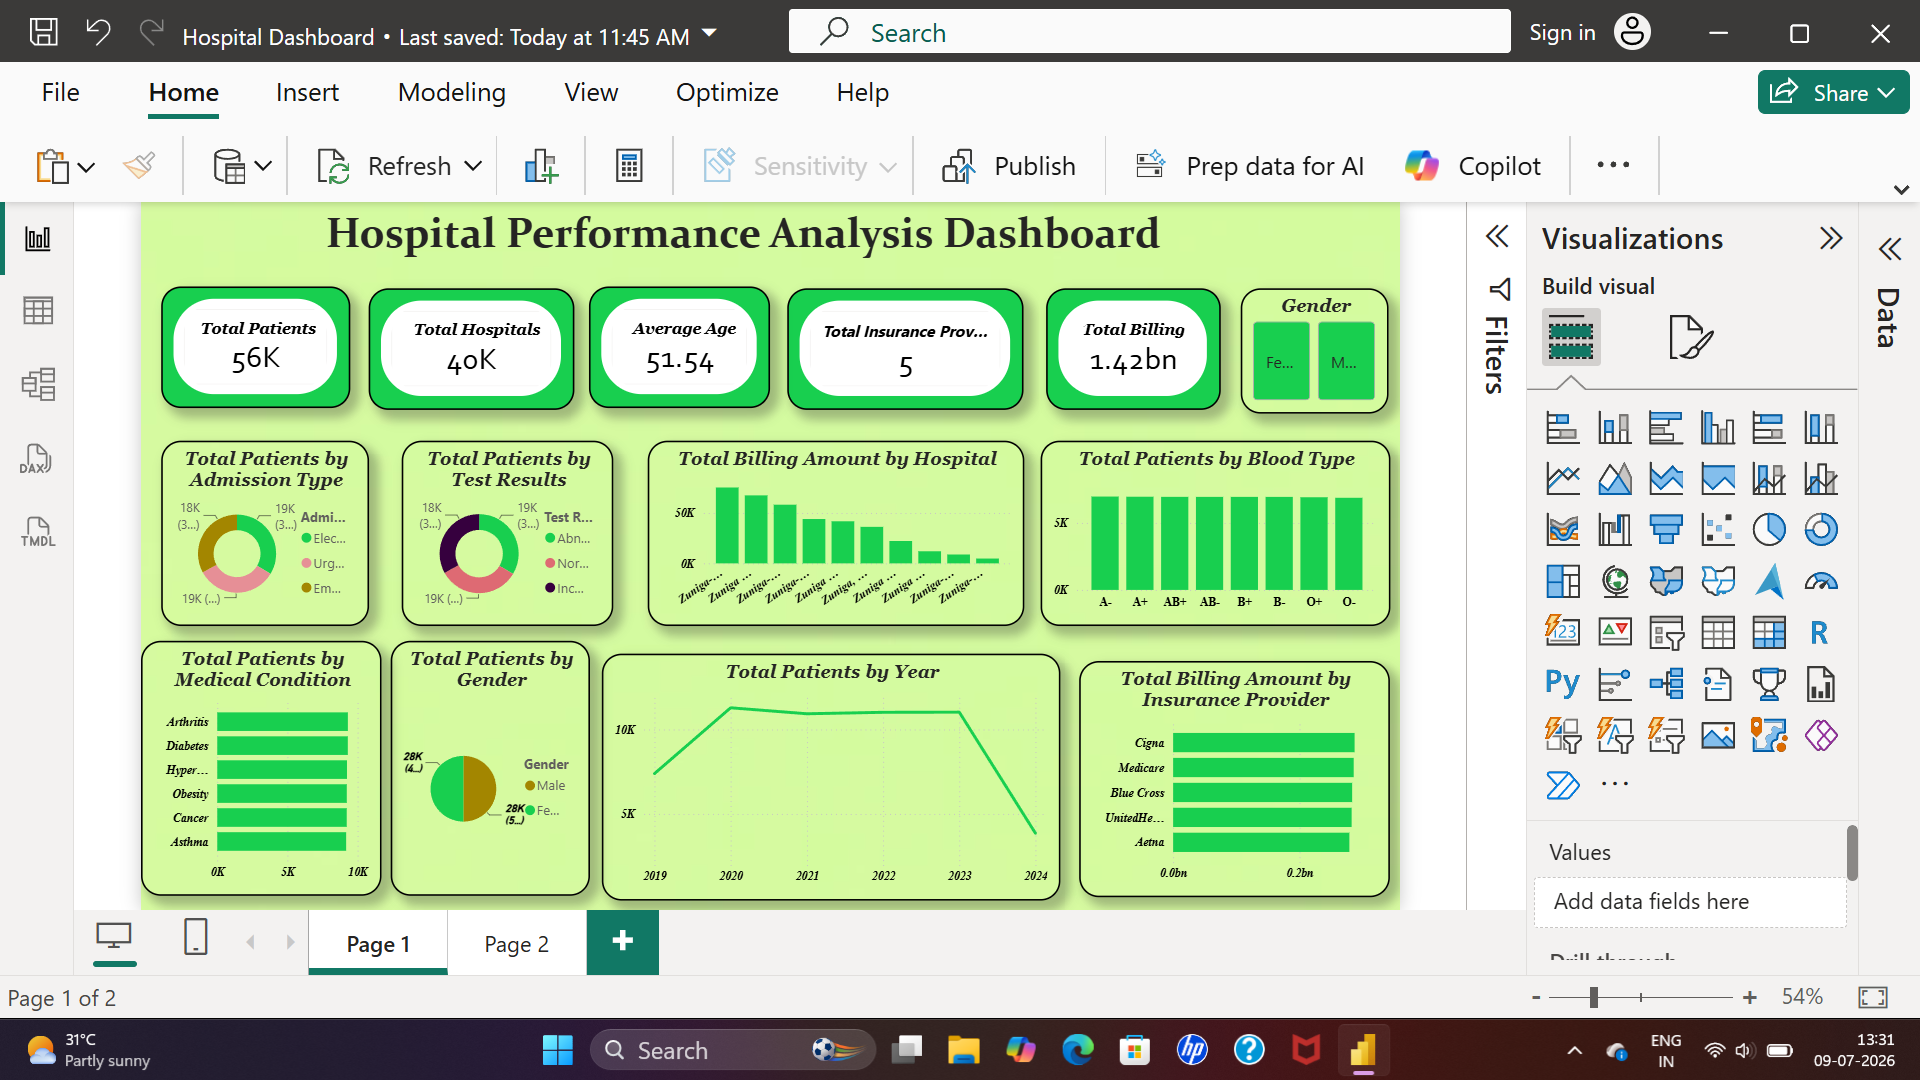

Layout of this report page (visuals, bound fields, positions):
{"tool":"powerbi","page":{"name":"Page 1","canvas":[1280,720],"ordinal":0},"visuals":[{"type":"cardVisual","fields":{"Data":["healthcare_dataset.Total Billing"]},"box":[920.1,87.8,177.7,123.4],"z":0},{"type":"advancedSlicerVisual","fields":{"Values":["healthcare_dataset.Gender"]},"box":[1118.7,87.8,150.6,127.6],"z":1000},{"type":"clusteredBarChart","fields":{"Y":["healthcare_dataset.Total Patients"],"Category":["healthcare_dataset.Medical Condition"]},"box":[0,445.4,244.6,259.3],"z":2000},{"type":"clusteredColumnChart","title":"Total Billing Amount by Hospital","fields":{"Y":["Sum(healthcare_dataset.Billing Amount)"],"Category":["healthcare_dataset.Hospital"]},"box":[514.4,242.6,382.7,188.2],"z":3000},{"type":"donutChart","fields":{"Category":["healthcare_dataset.Admission Type"],"Y":["healthcare_dataset.Total Patients"]},"box":[20.9,242.6,211.2,188.2],"z":4000},{"type":"clusteredBarChart","title":"Total Billing Amount by Insurance Provider","fields":{"Category":["healthcare_dataset.Insurance Provider"],"Y":["Sum(healthcare_dataset.Billing Amount)"]},"box":[953.5,466.3,315.7,240.5],"z":5000},{"type":"lineChart","fields":{"Category":["healthcare_dataset.Date of Admission.Variation.Date Hierarchy.Year","healthcare_dataset.Date of Admission.Variation.Date Hierarchy.Quarter","healthcare_dataset.Date of Admission.Variation.Date Hierarchy.Month","healthcare_dataset.Date of Admission.Variation.Date Hierarchy.Day"],"Y":["healthcare_dataset.Total Patients"]},"box":[468.4,460,466.3,250.9],"z":6000},{"type":"donutChart","fields":{"Category":["healthcare_dataset.Test Results"],"Y":["healthcare_dataset.Total Patients"]},"box":[265.6,242.6,215.4,188.2],"z":7000},{"type":"columnChart","fields":{"Category":["healthcare_dataset.Blood Type"],"Y":["healthcare_dataset.Total Patients"]},"box":[913.8,242.6,355.5,188.2],"z":8000},{"type":"textbox","box":[101,0,1019.3,72.5],"z":9000},{"type":"cardVisual","fields":{"Data":["healthcare_dataset.Total Insurance Providers"]},"box":[656.6,87.8,240.5,123.4],"z":10000},{"type":"cardVisual","fields":{"Data":["healthcare_dataset.Average Age"]},"box":[455.8,85.7,184,123.4],"z":11000},{"type":"cardVisual","fields":{"Data":["healthcare_dataset.Total Hospitals"]},"box":[232.1,87.8,209.1,123.4],"z":12000},{"type":"cardVisual","fields":{"Data":["healthcare_dataset.Total Patients"]},"box":[20.9,85.7,192.4,123.4],"z":13000},{"type":"pieChart","fields":{"Category":["healthcare_dataset.Gender"],"Y":["healthcare_dataset.Total Patients"]},"box":[253,445.4,202.8,259.3],"z":14000}]}

Visuals, with their boxes on the page's 1280x720 design canvas (x1, y1, x2, y2). These are canvas units, not pixel positions in the 1920x1080 screenshot, which may show the page scaled, cropped or inside an application window:
cardVisual - healthcare_dataset.Total Billing: (920, 88, 1098, 211)
advancedSlicerVisual - healthcare_dataset.Gender: (1119, 88, 1269, 215)
clusteredBarChart - healthcare_dataset.Total Patients x healthcare_dataset.Medical Condition: (0, 445, 245, 705)
"Total Billing Amount by Hospital" clusteredColumnChart: (514, 243, 897, 431)
donutChart - healthcare_dataset.Admission Type x healthcare_dataset.Total Patients: (21, 243, 232, 431)
"Total Billing Amount by Insurance Provider" clusteredBarChart: (954, 466, 1269, 707)
lineChart - healthcare_dataset.Date of Admission.Variation.Date Hierarchy.Year x healthcare_dataset.Date of Admission.Variation.Date Hierarchy.Quarter: (468, 460, 935, 711)
donutChart - healthcare_dataset.Test Results x healthcare_dataset.Total Patients: (266, 243, 481, 431)
columnChart - healthcare_dataset.Blood Type x healthcare_dataset.Total Patients: (914, 243, 1269, 431)
textbox: (101, 0, 1120, 72)
cardVisual - healthcare_dataset.Total Insurance Providers: (657, 88, 897, 211)
cardVisual - healthcare_dataset.Average Age: (456, 86, 640, 209)
cardVisual - healthcare_dataset.Total Hospitals: (232, 88, 441, 211)
cardVisual - healthcare_dataset.Total Patients: (21, 86, 213, 209)
pieChart - healthcare_dataset.Gender x healthcare_dataset.Total Patients: (253, 445, 456, 705)
